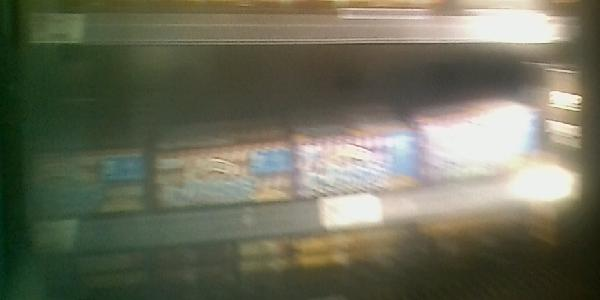icecream: (152, 150, 291, 278), (418, 99, 531, 254), (22, 153, 144, 293), (296, 132, 412, 272)
